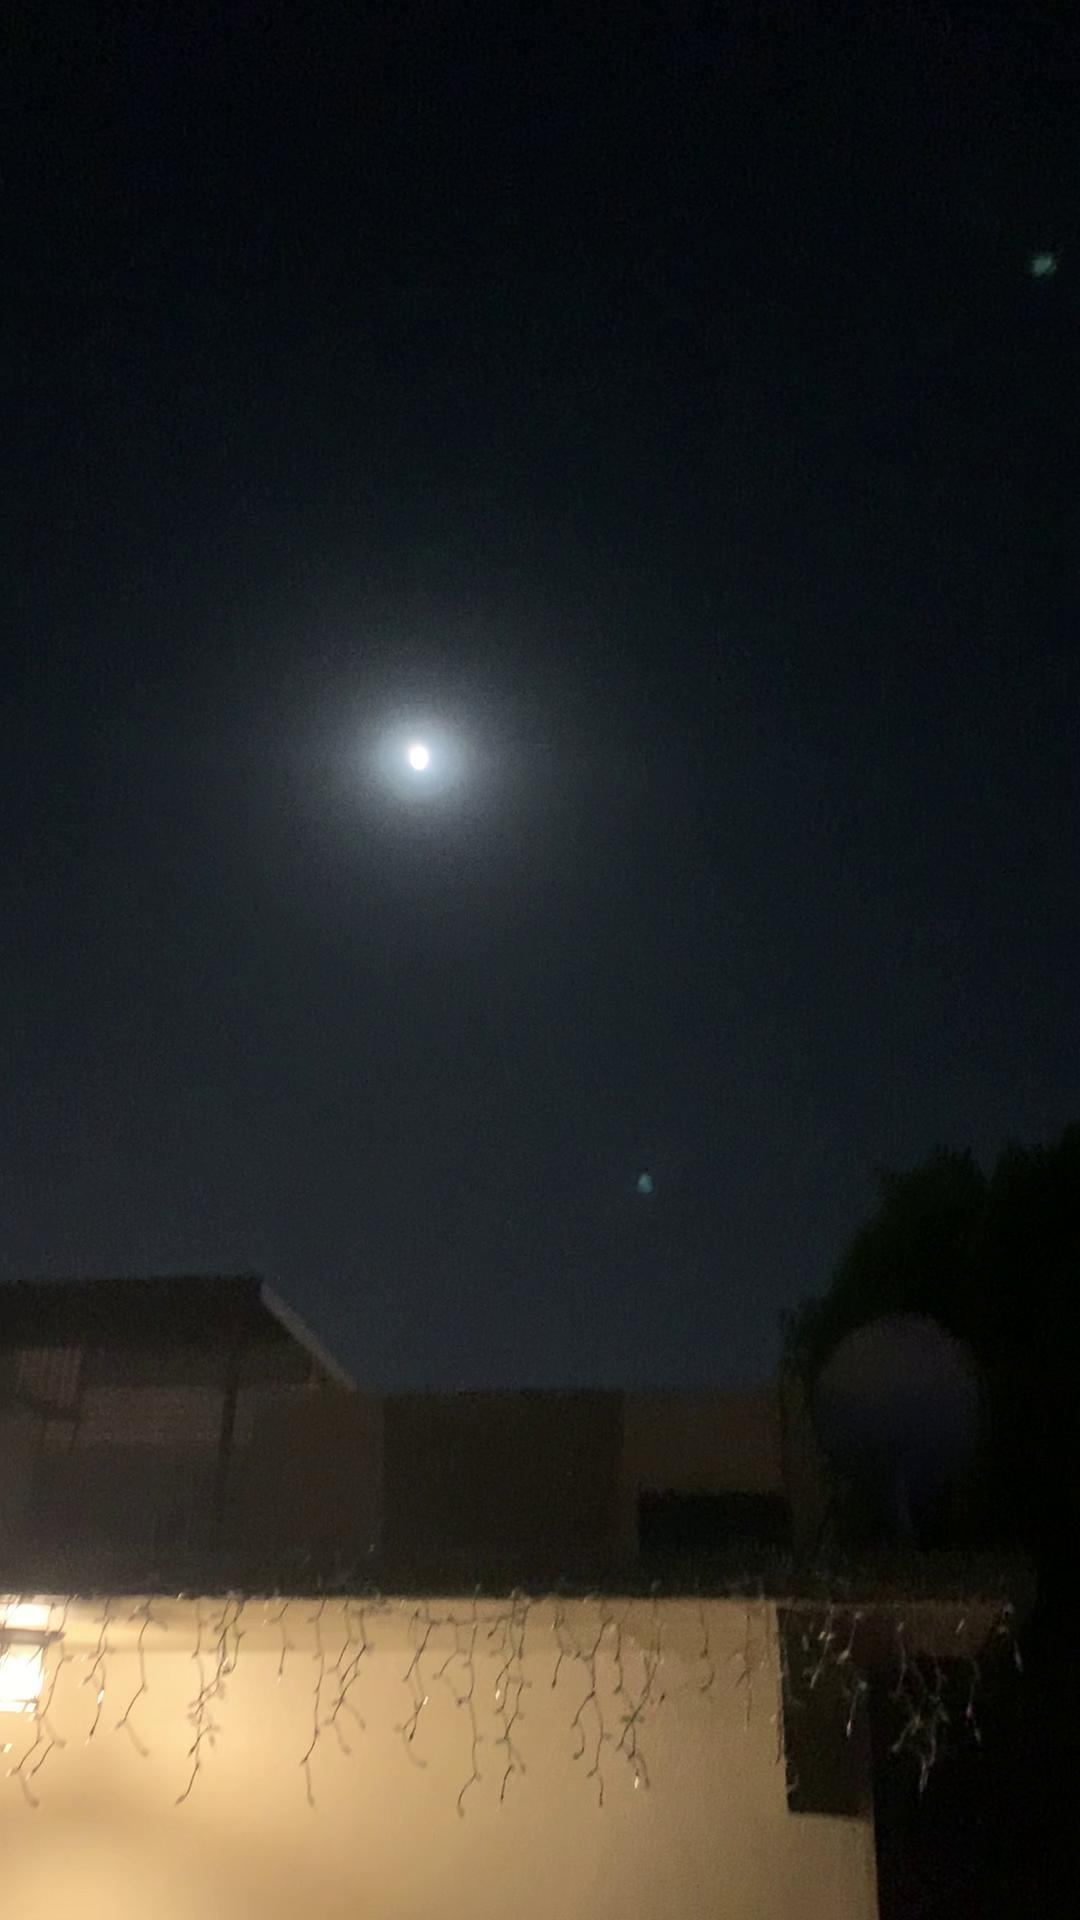moon: (377, 715, 463, 794)
